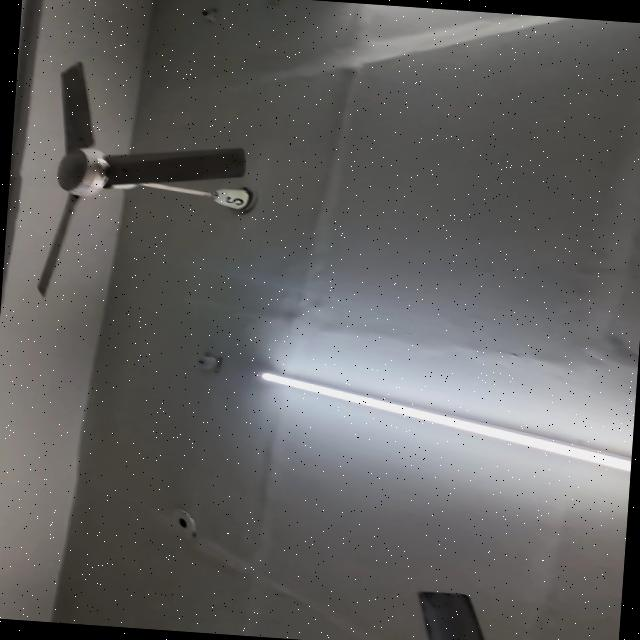Light: (258, 371, 631, 470)
